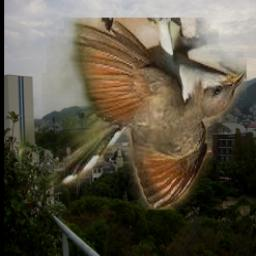Cuckoo: (19, 18, 247, 210)
